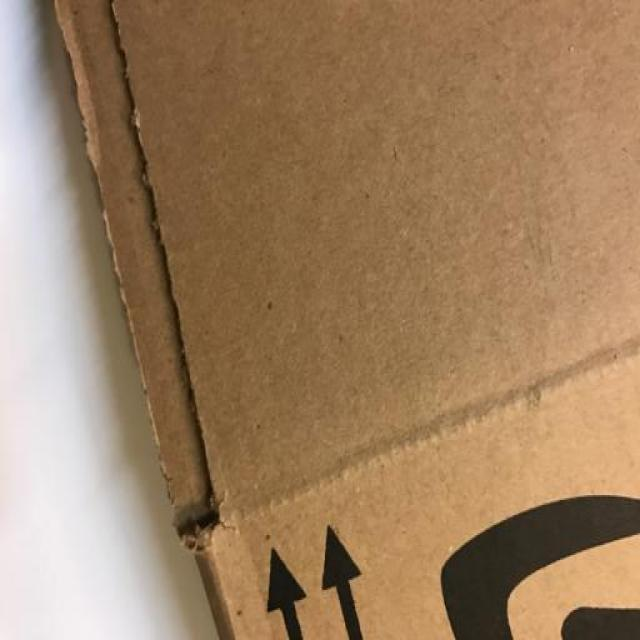cardboard: (51, 0, 640, 640)
